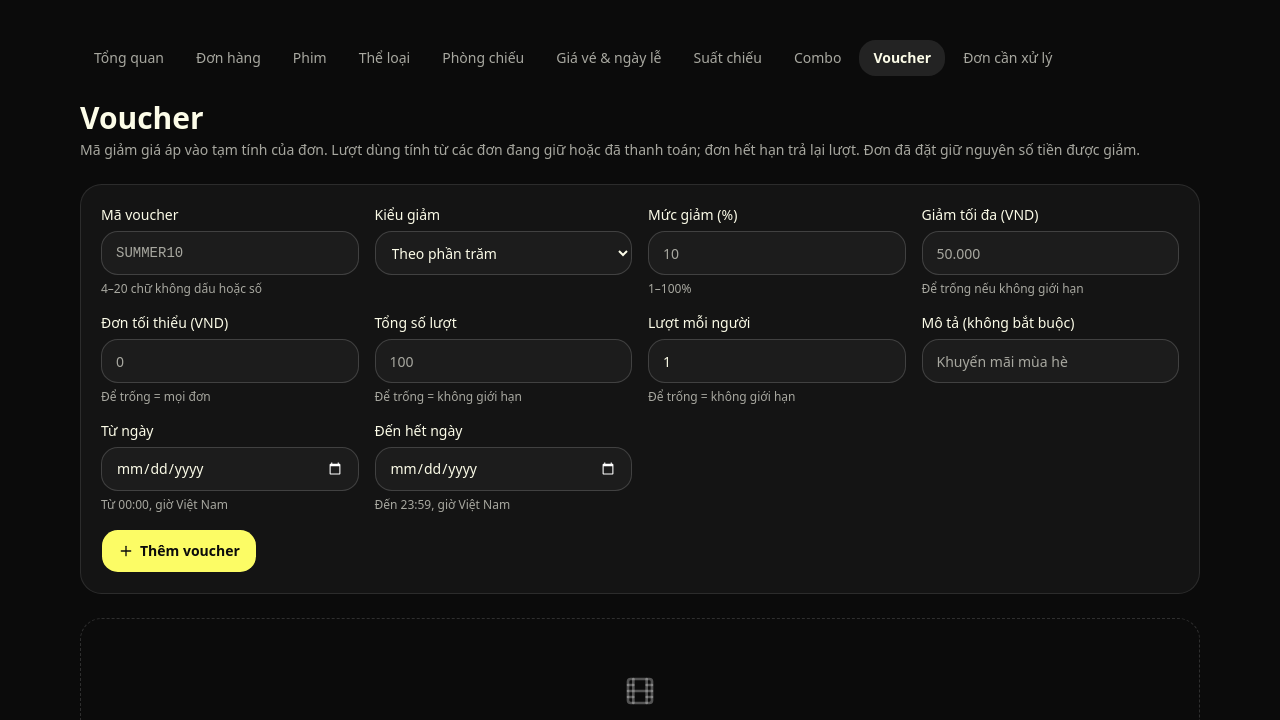
Test: Admin voucher form › a fixed amount is shown with thousands separators while typing
Select "Số tiền cố định" in the dropdown labelled "Kiểu giảm" at (503, 253), box [374,231,632,275]
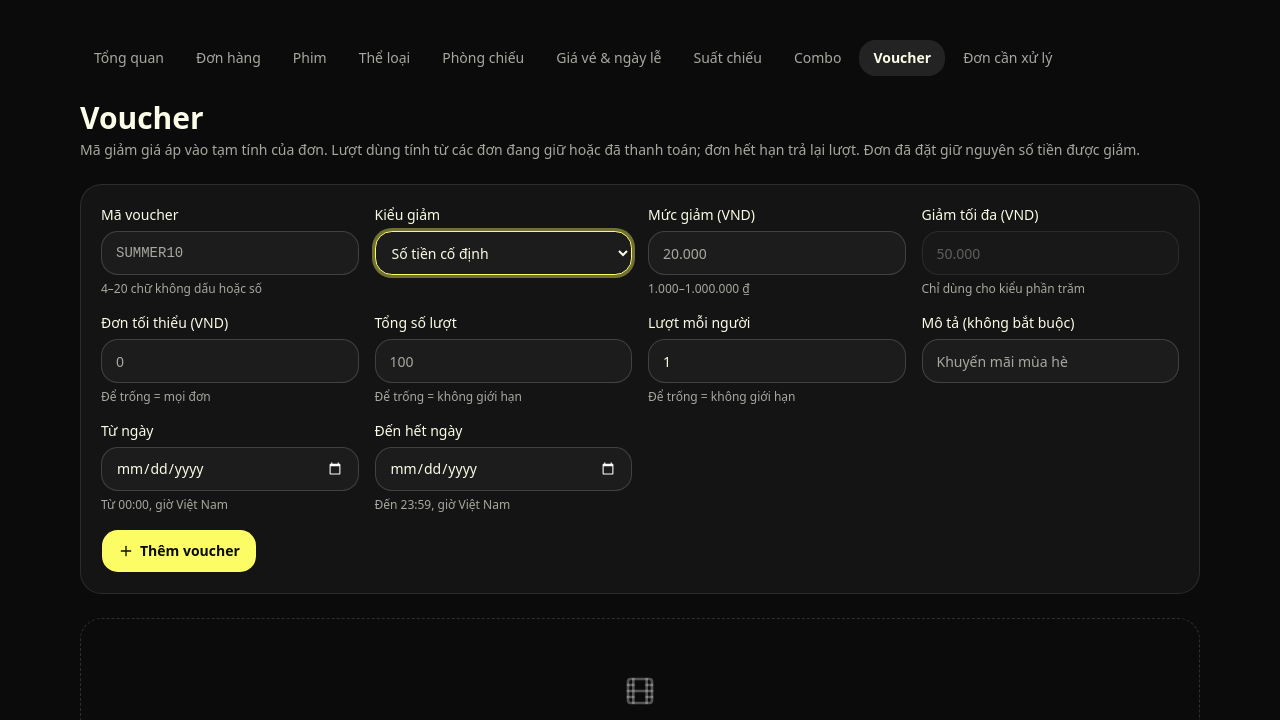
Type "20000" into the field labelled "Mức giảm (VND)" at (777, 253), box [648,231,906,275]
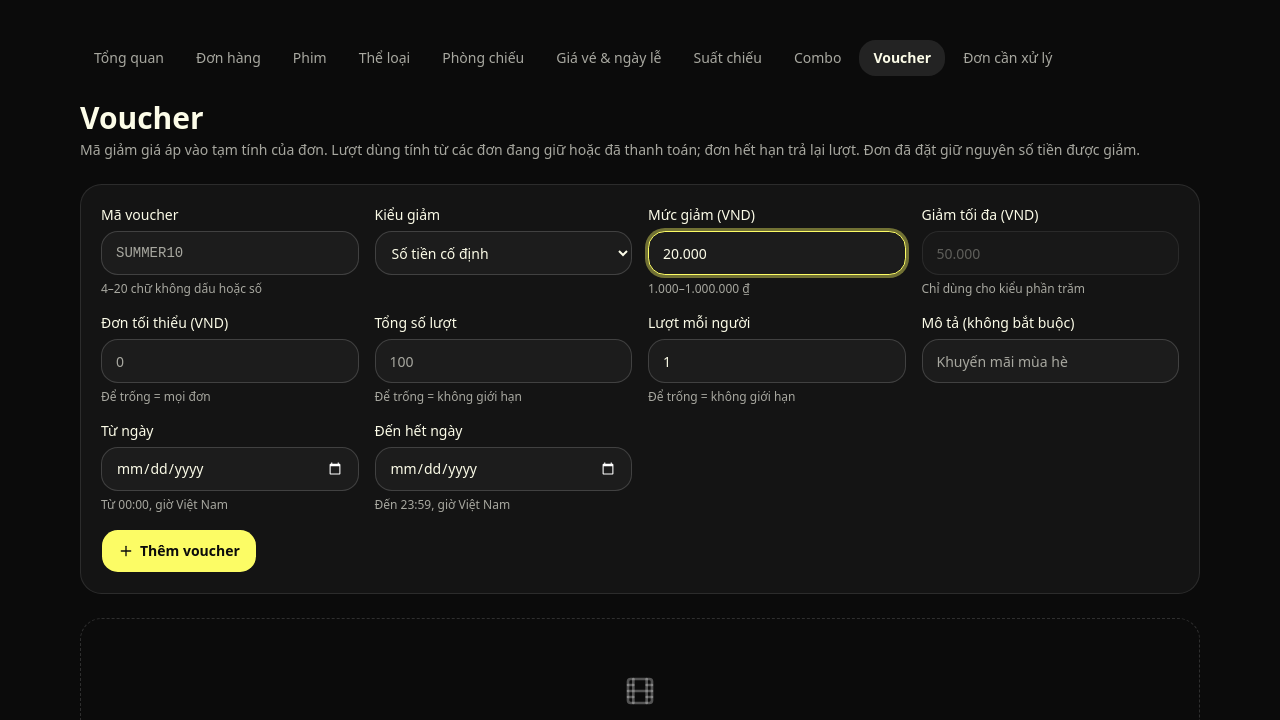
Now the field labelled "Mức giảm (VND)" holds "20.000", box [648,231,906,275]
